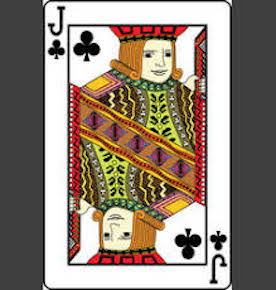JackOfClubs: (41, 1, 233, 290)
